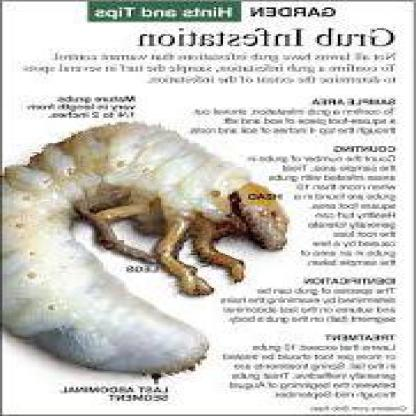root grubs: (7, 119, 295, 380)
